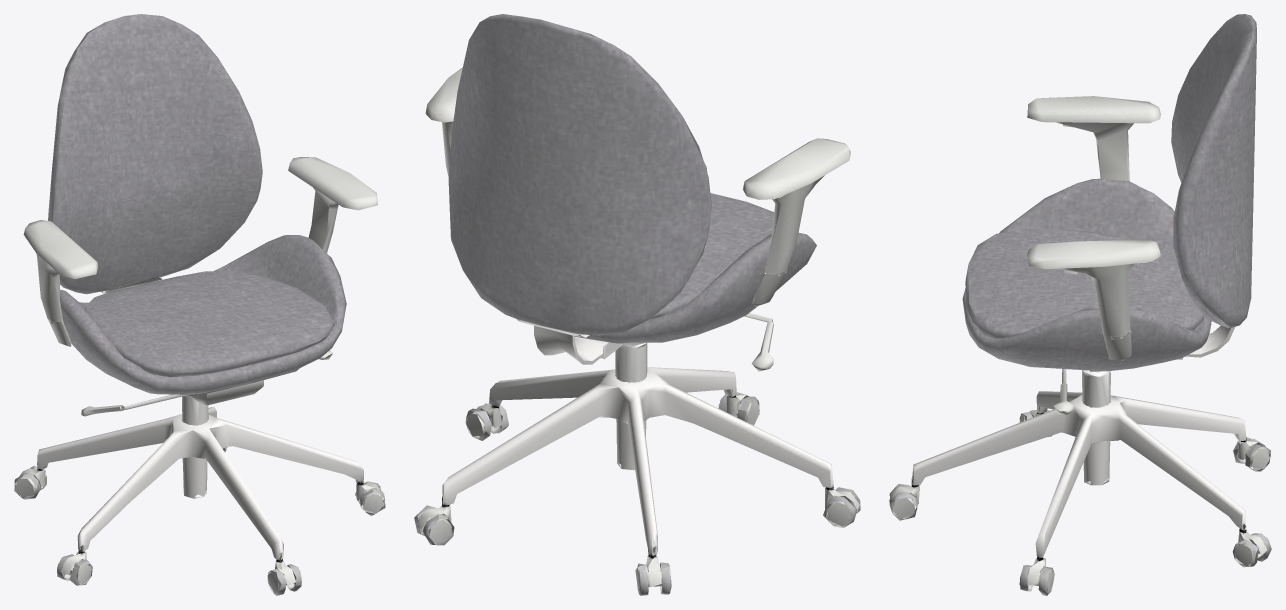
Rendered from 27 - HATTEFJÄLL Office chair with armrests - Gunnared medium greywhite.glb.
3 views of the same model, side by side, from view 1: azimuth 30°, elevation 25°; view 2: azimuth 150°, elevation 25°; view 3: azimuth 270°, elevation 25° (orthographic). The views are drawn at different scales.
Parts seen in each view (by area): view 1: Mesh_0; view 2: Mesh_0; view 3: Mesh_0.
Part boxes in pixels (x1,y1,x2,y2): Mesh_0: (14,14,385,595); Mesh_0: (414,14,860,595); Mesh_0: (889,14,1271,595).
Bounding box in the file's own units: 0.6836 × 0.9212 × 0.6525.
1 material, 1 textured.
